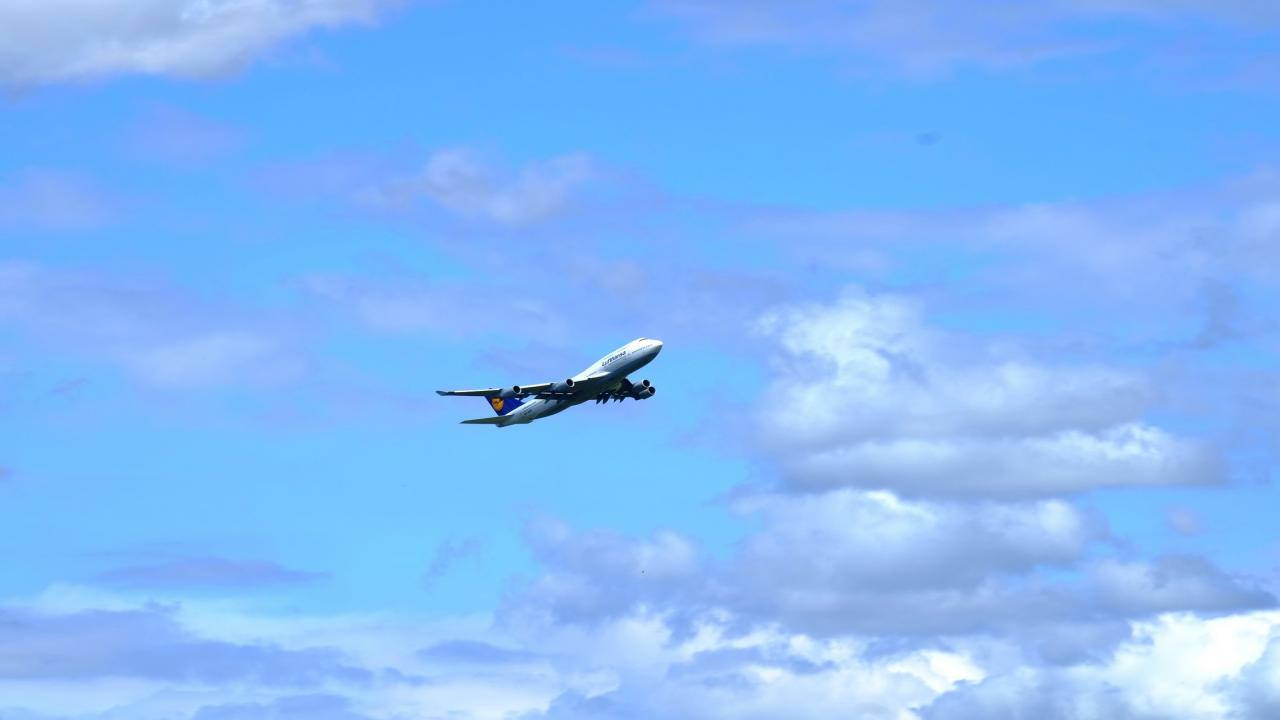Airplane: (425, 329, 670, 435)
